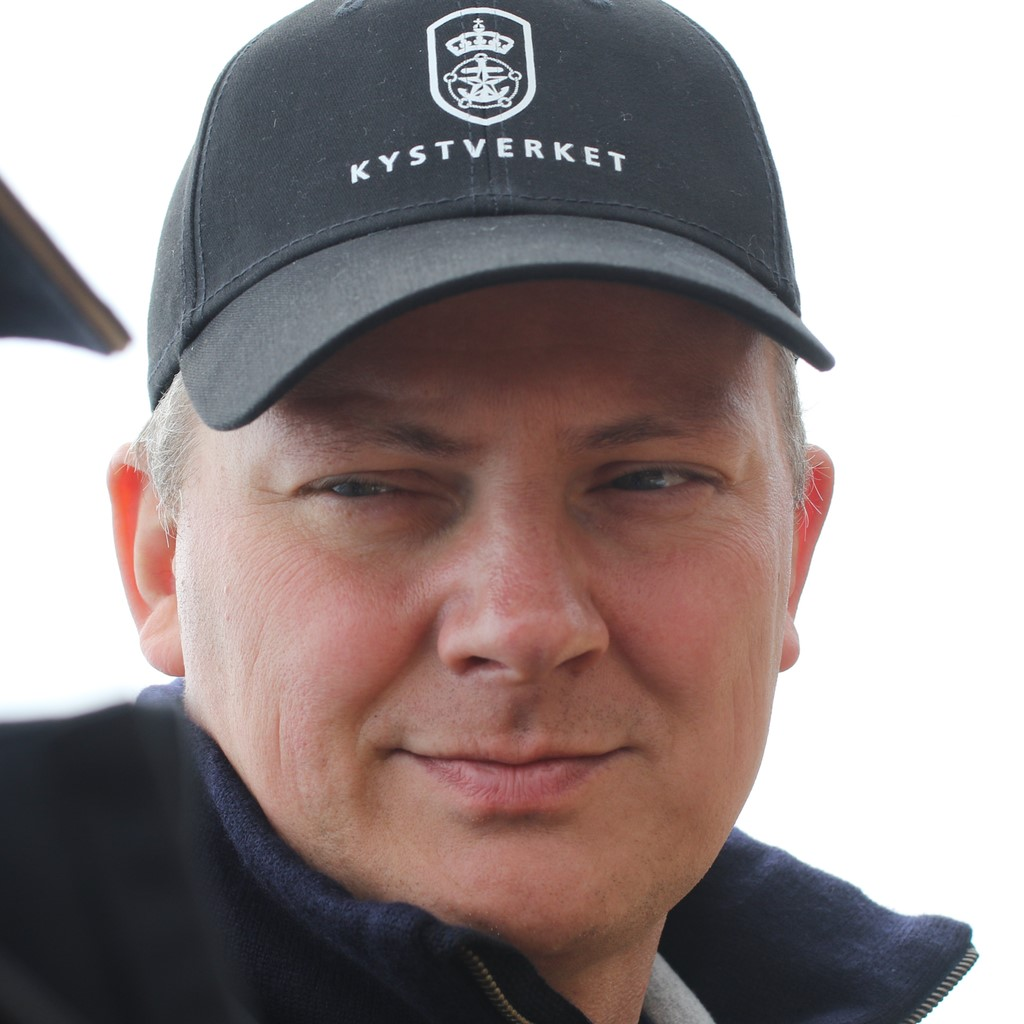sin_mascara: (191, 203, 802, 954)
